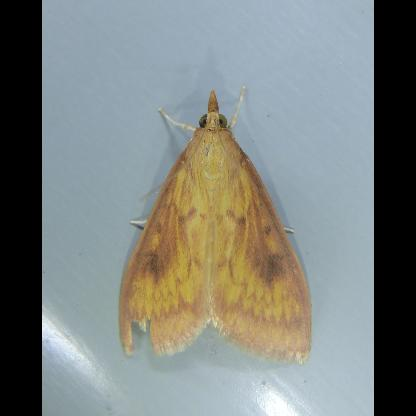Asian Corn Borer Moth: (115, 82, 316, 370)
